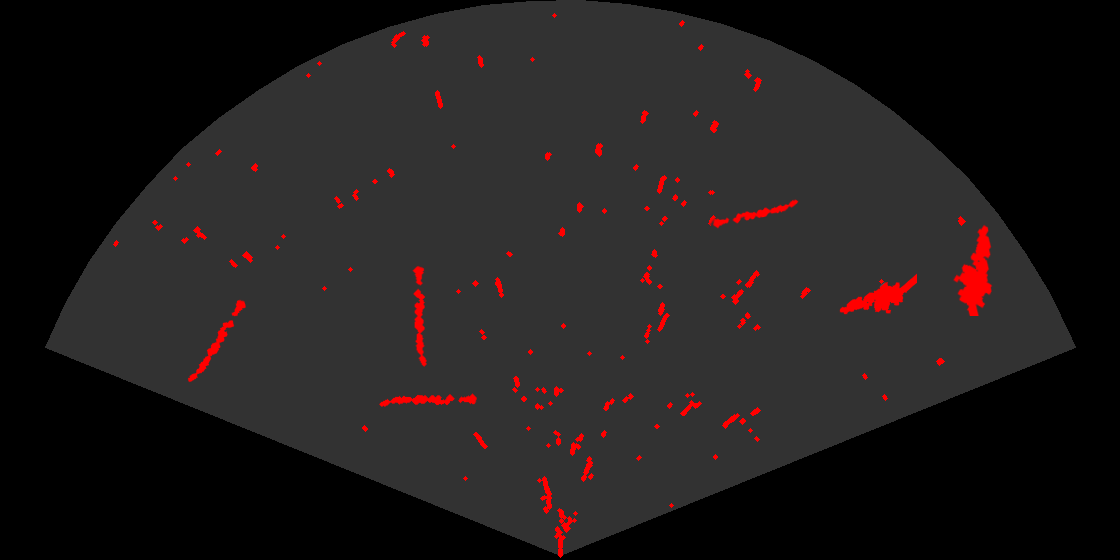chain: (186, 298, 247, 384), (709, 198, 800, 230), (411, 265, 428, 368), (378, 392, 477, 408)
frogman: (952, 223, 994, 316), (838, 272, 917, 316)
